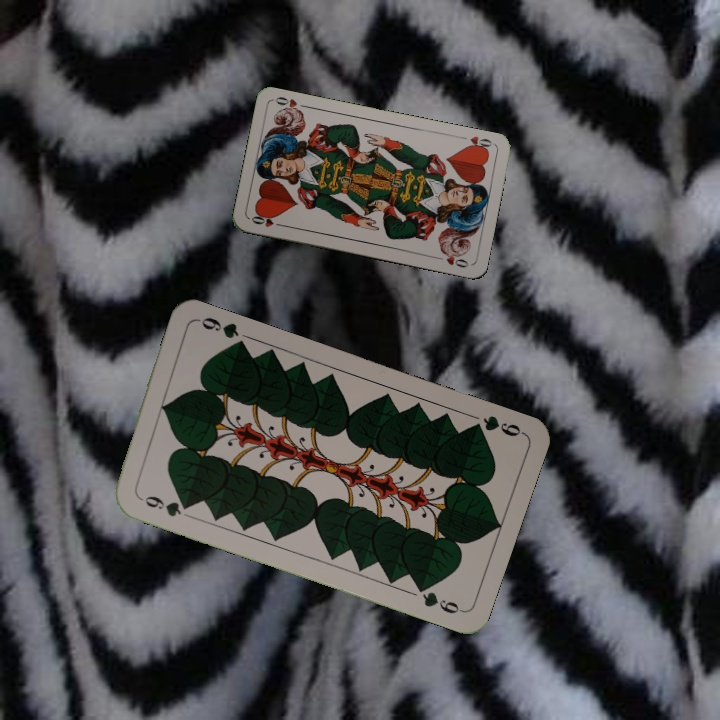G9: (133, 491, 193, 520), (465, 411, 526, 439)
HO: (247, 210, 287, 230), (462, 132, 496, 154)
